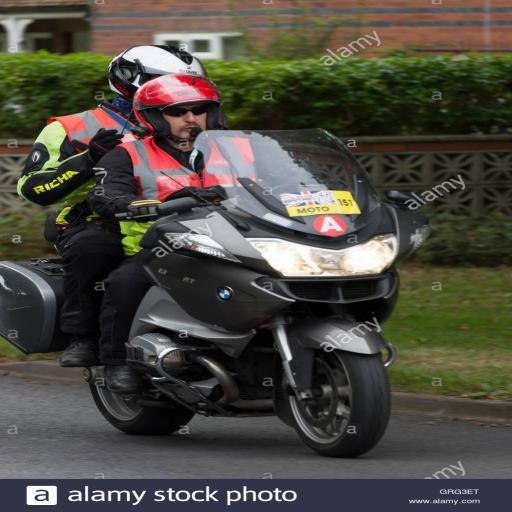helmet: (119, 68, 327, 400)
